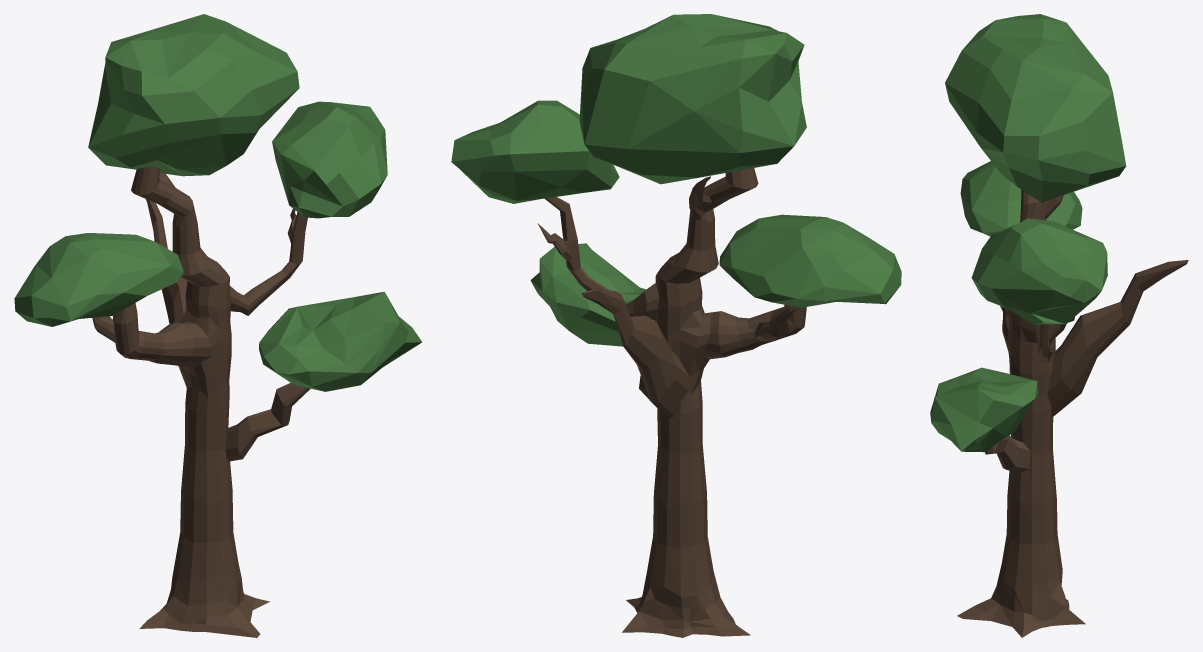
Rendered from tree long.fbx.
The picture shows the model from 3 angles, left to right: view 1: azimuth 30°, elevation 25°; view 2: azimuth 150°, elevation 25°; view 3: azimuth 270°, elevation 25°; orthographic projection. The views are drawn at different scales.
Visible parts, largest first — view 1: Cylinder.001, Sphere.001, Sphere, Sphere.003, Sphere.002; view 2: Cylinder.001, Sphere.001, Sphere, Sphere.002, Sphere.003; view 3: Sphere.001, Cylinder.001, Sphere.002, Sphere.003, Sphere.
Boxes of the visible parts, x1,y1,x2,y2 form: Cylinder.001: (92,167,310,637); Sphere.001: (88,14,299,176); Sphere: (14,233,183,326); Sphere.003: (259,291,421,391); Sphere.002: (272,101,387,218); Cylinder.001: (537,168,806,637); Sphere.001: (579,14,806,184); Sphere: (719,214,901,307); Sphere.002: (451,100,619,203); Sphere.003: (530,243,654,346); Sphere.001: (945,14,1126,202); Cylinder.001: (957,190,1188,637); Sphere.002: (971,218,1107,324); Sphere.003: (930,367,1038,452); Sphere: (960,161,1082,236).
Size of the model in its own units: 403 by 576 by 241.
